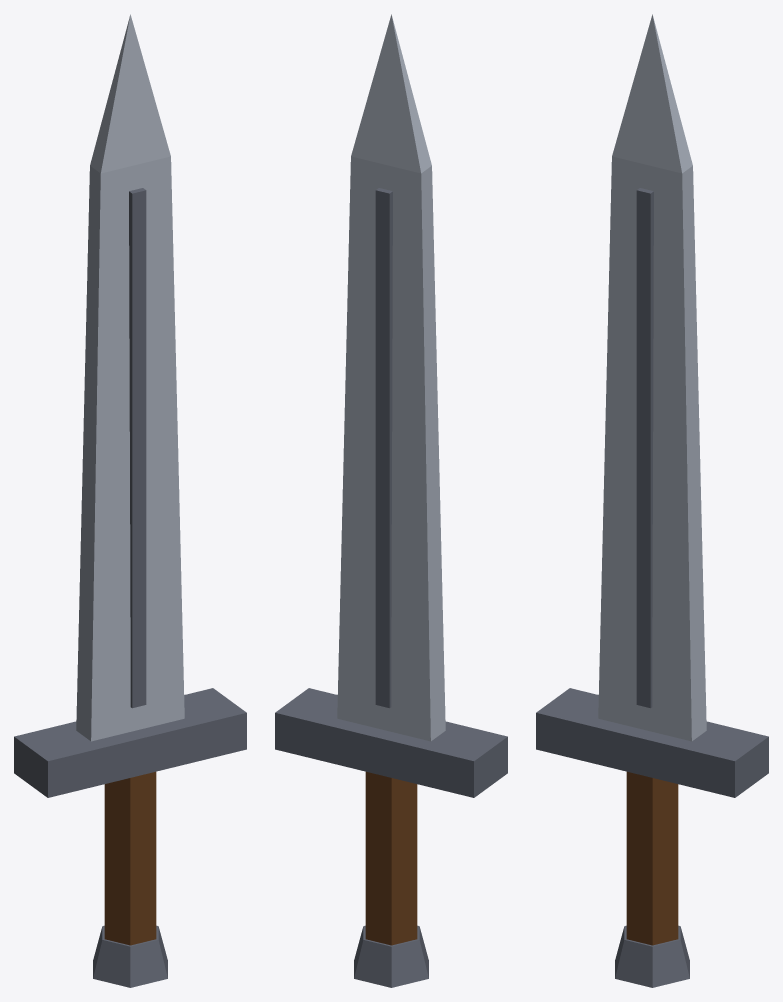
The model's file is IronSword.obj.
3 renders of one model, left to right at view 1: azimuth 30°, elevation 25°; view 2: azimuth 150°, elevation 25°; view 3: azimuth 330°, elevation 25°, orthographic.
Visible parts, largest first — view 1: Blade, Grip; view 2: Blade, Grip; view 3: Blade, Grip.
Boxes of the visible parts, x1,y1,x2,y2 form: Blade: (76, 14, 184, 741); Grip: (14, 688, 246, 987); Blade: (337, 14, 445, 741); Grip: (275, 688, 507, 987); Blade: (598, 14, 706, 741); Grip: (536, 688, 768, 987).
Size of the model in its own units: 0.17 by 0.78 by 0.0554.
